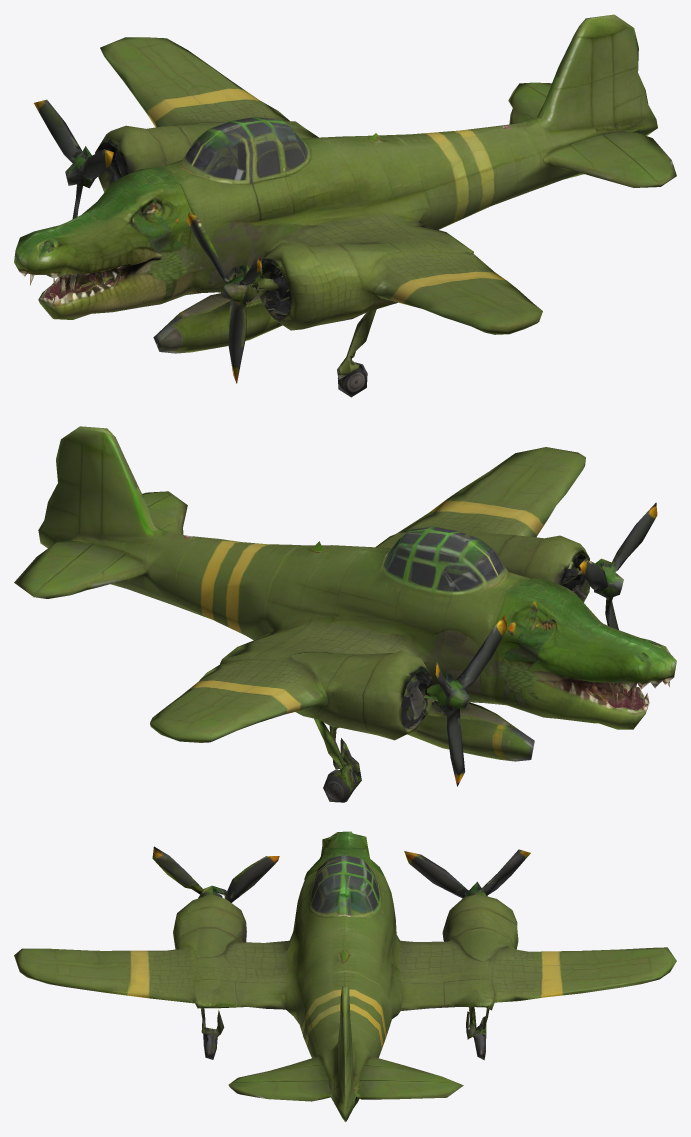
The model's file is bomb_0910060745_texture.fbx.
3 views of the same model, one above another, from view 1: azimuth 30°, elevation 25°; view 2: azimuth 150°, elevation 25°; view 3: azimuth 270°, elevation 25° (orthographic). The views are drawn at different scales.
Visible parts, largest first — view 1: Mesh1.0; view 2: Mesh1.0; view 3: Mesh1.0.
Part boxes in pixels (x1,y1,x2,y2): Mesh1.0: (14,14,676,397); Mesh1.0: (14,426,676,802); Mesh1.0: (14,831,676,1121).
Size of the model in its own units: 187 by 66.87 by 200.
Materials: 1 (1 with a texture image).
